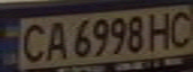6: (69, 16, 93, 60)
8: (124, 11, 151, 54)
9: (90, 16, 112, 57), (109, 14, 130, 56)
A: (39, 18, 69, 62)
C: (15, 20, 51, 63), (163, 7, 193, 48)
H: (145, 8, 178, 52)
